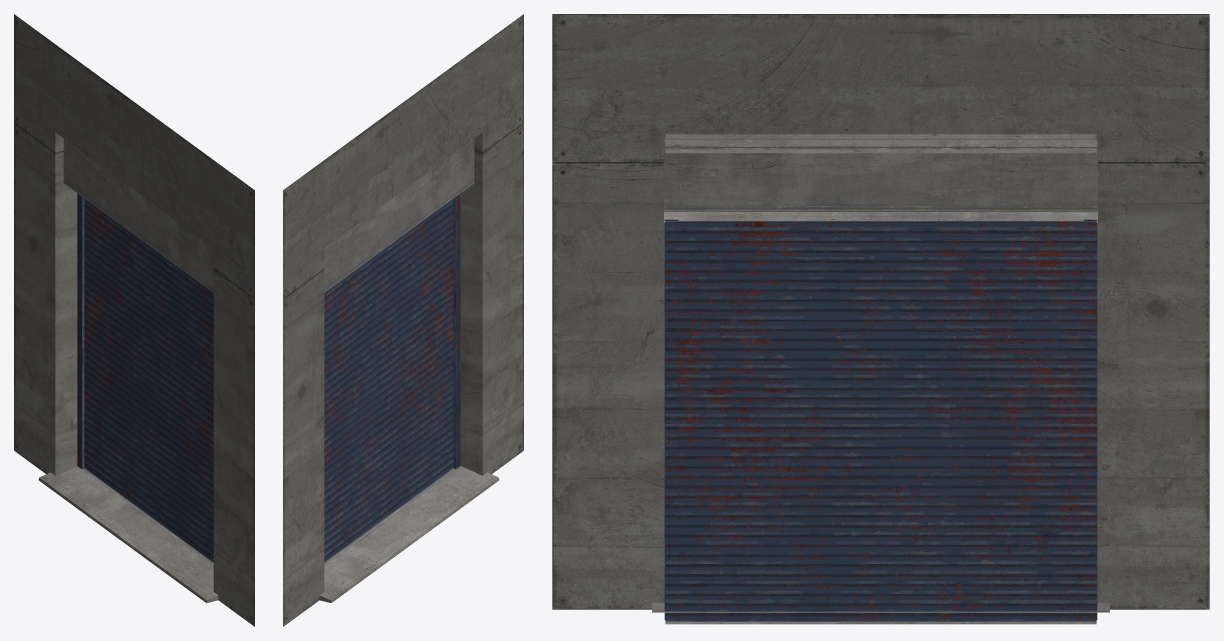
The model's file is CP_Wall_Roller_Shutters_01.fbx.
3 renders of one model, left to right at view 1: azimuth 30°, elevation 25°; view 2: azimuth 150°, elevation 25°; view 3: azimuth 270°, elevation 25°, orthographic. The views are drawn at different scales.
Visible parts, largest first — view 1: CP_Wall_Roller_Shutters_01; view 2: CP_Wall_Roller_Shutters_01; view 3: CP_Wall_Roller_Shutters_01.
Part boxes in pixels (<box>): CP_Wall_Roller_Shutters_01: <box>14,14,254,626</box>; CP_Wall_Roller_Shutters_01: <box>283,14,523,626</box>; CP_Wall_Roller_Shutters_01: <box>552,14,1209,624</box>.
Bounding box in the file's own units: 38.65 × 400 × 400.
